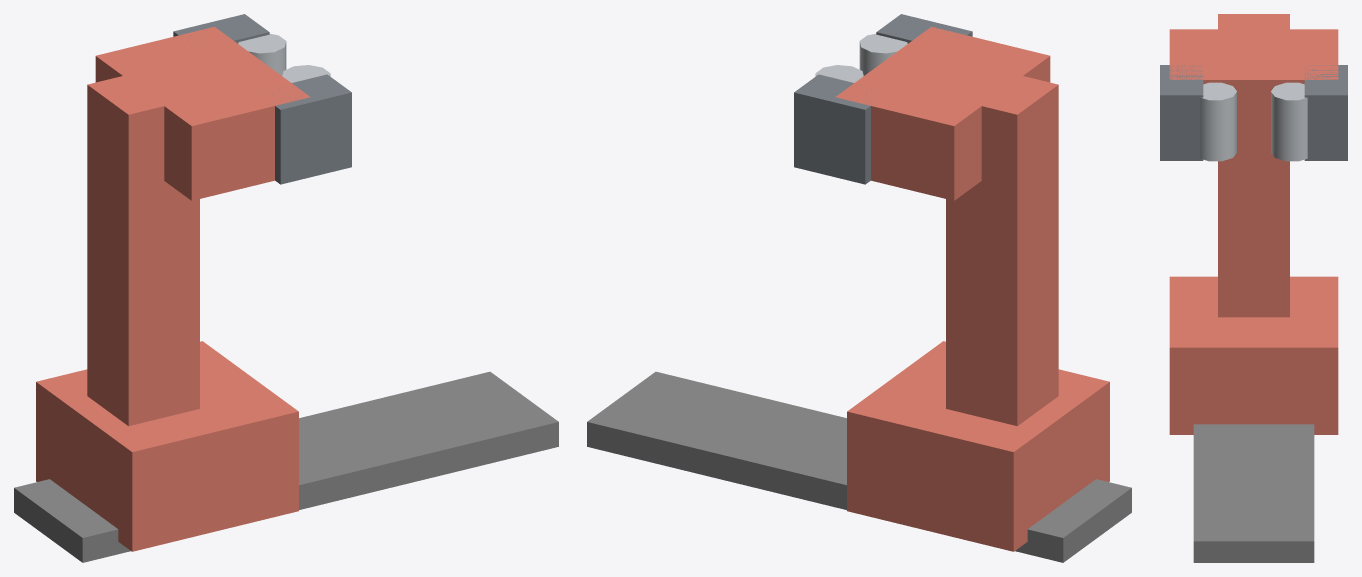
The model's file is mhwrench.glb.
3 renders of one model, left to right at view 1: azimuth 30°, elevation 25°; view 2: azimuth 150°, elevation 25°; view 3: azimuth 270°, elevation 25°, orthographic. The views are drawn at different scales.
Bounding box in the file's own units: 2 × 1.7 × 0.78.
